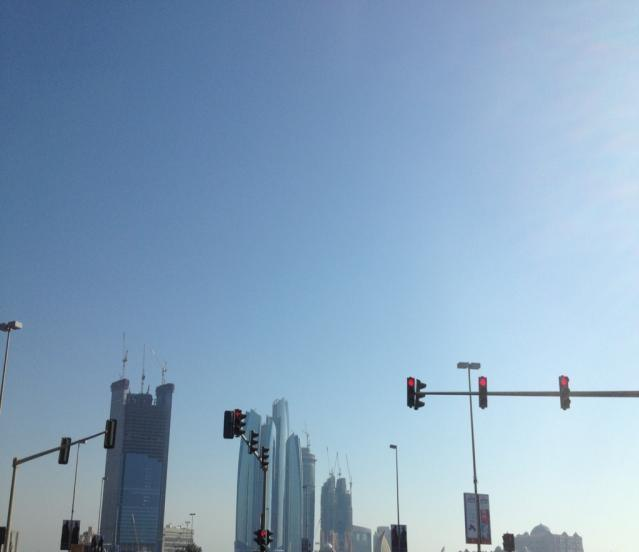red_light: (559, 375, 571, 410), (479, 377, 487, 408), (407, 377, 415, 407), (259, 529, 267, 552)
